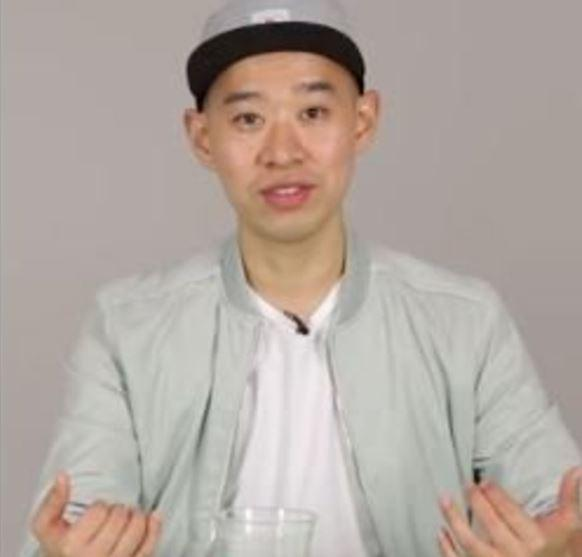Sober: (222, 62, 357, 233)
